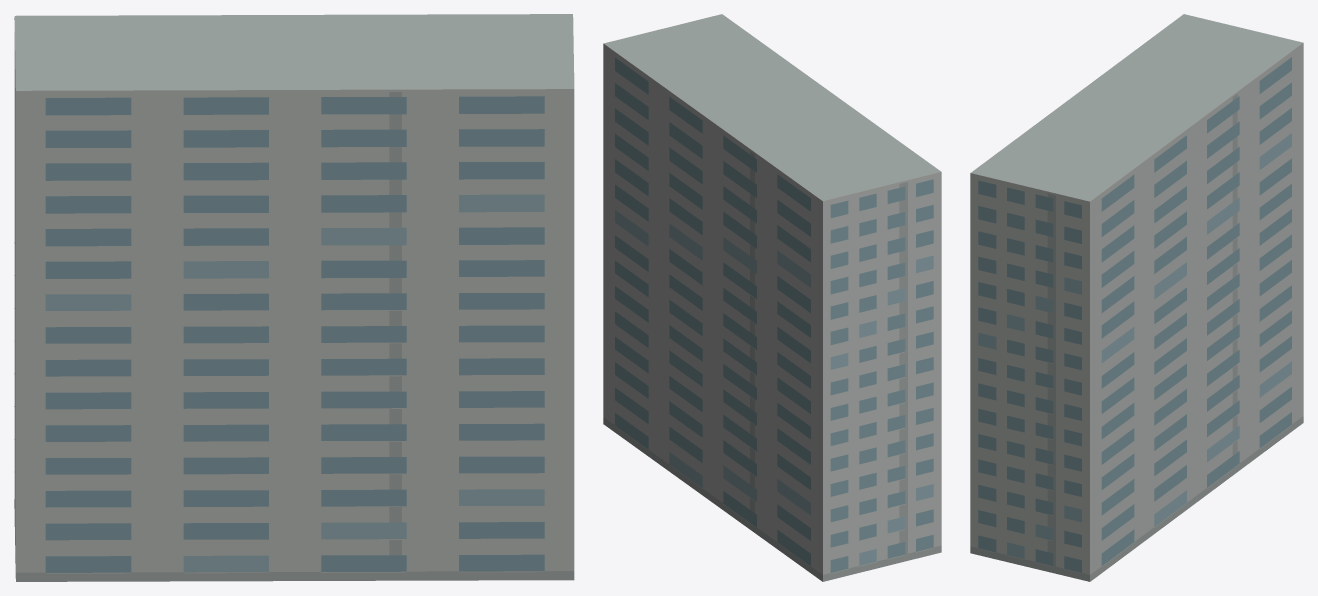
File: residential-8e04893b-6b95-4683-b814-916921b6da00.glb
3 renders of one model, left to right at view 1: azimuth 30°, elevation 25°; view 2: azimuth 150°, elevation 25°; view 3: azimuth 270°, elevation 25°, orthographic. The views are drawn at different scales.
Parts seen in each view (by area): view 1: residential-8e04893b-6b95-4683-b814-916921b6da00.tmp; view 2: residential-8e04893b-6b95-4683-b814-916921b6da00.tmp; view 3: residential-8e04893b-6b95-4683-b814-916921b6da00.tmp.
Boxes of the visible parts, bbox=[...] form: residential-8e04893b-6b95-4683-b814-916921b6da00.tmp: bbox=[14, 14, 574, 581]; residential-8e04893b-6b95-4683-b814-916921b6da00.tmp: bbox=[603, 14, 941, 581]; residential-8e04893b-6b95-4683-b814-916921b6da00.tmp: bbox=[970, 14, 1303, 581].
Bounding box in the file's own units: 53.99 × 51 × 40.49.
